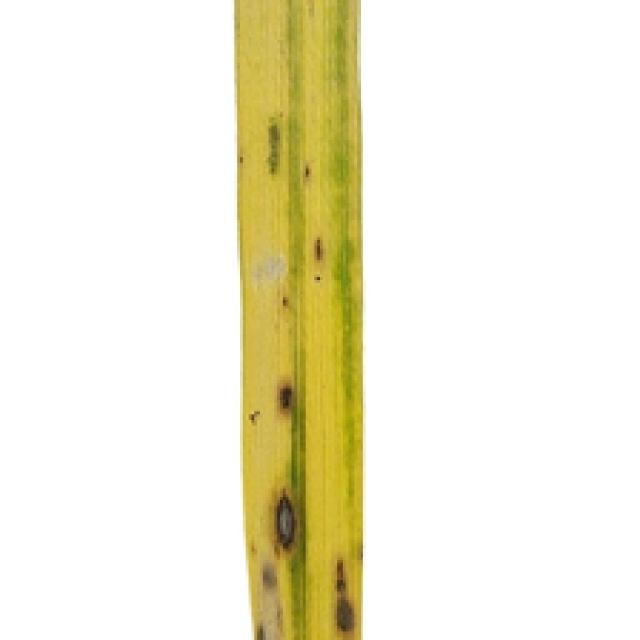Rice___Rice_Blast: (237, 0, 362, 637)
